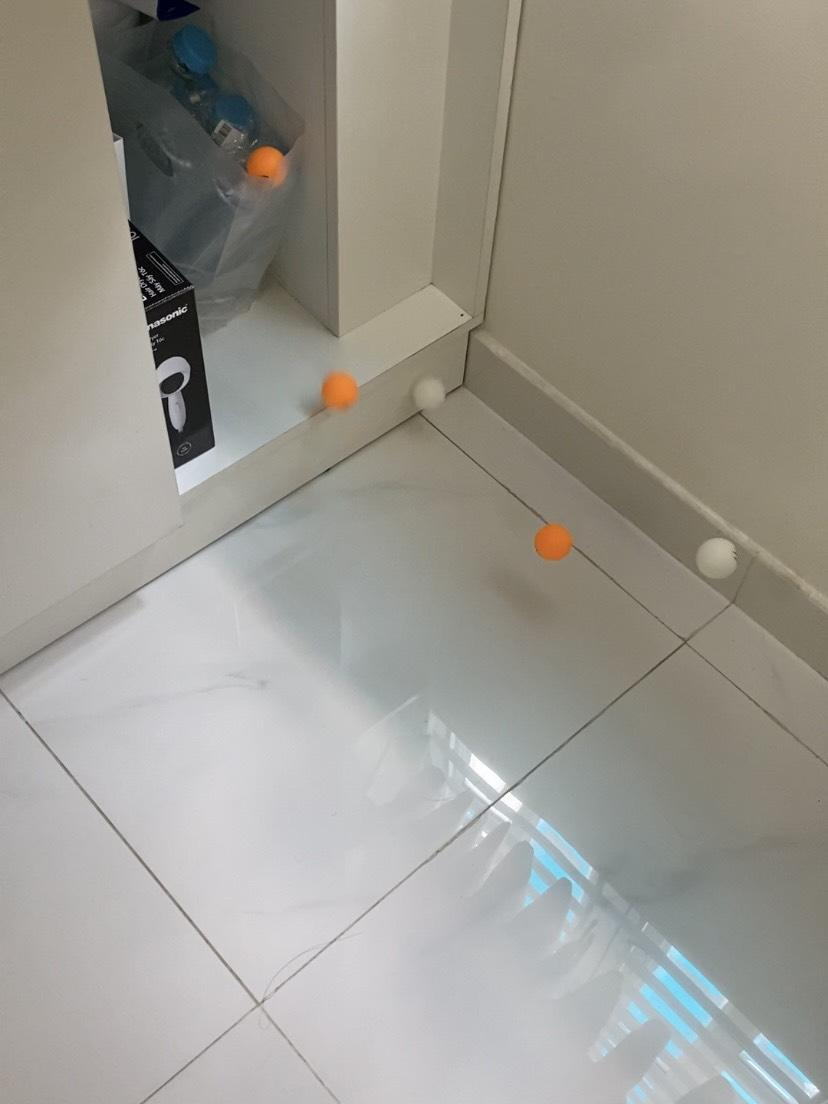oball: (697, 538, 740, 580), (245, 147, 287, 188), (535, 520, 573, 562), (325, 372, 358, 408), (413, 375, 447, 408)
